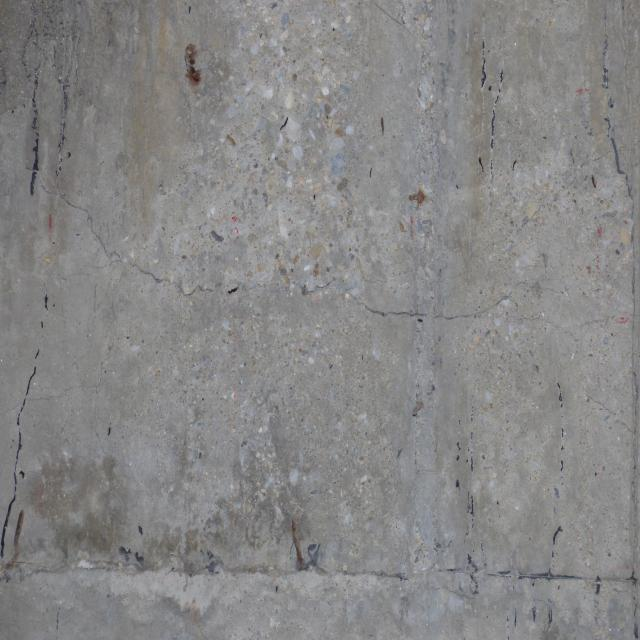corrosion: (176, 30, 207, 97), (408, 188, 431, 212)
